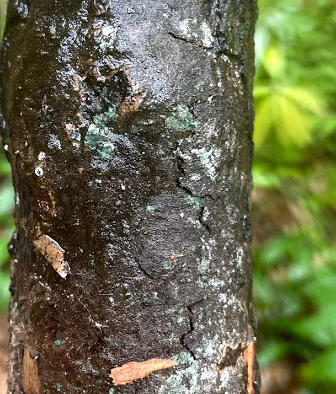Trichoderma: (161, 348, 237, 389), (78, 103, 125, 158), (190, 147, 220, 214), (168, 107, 198, 134)
